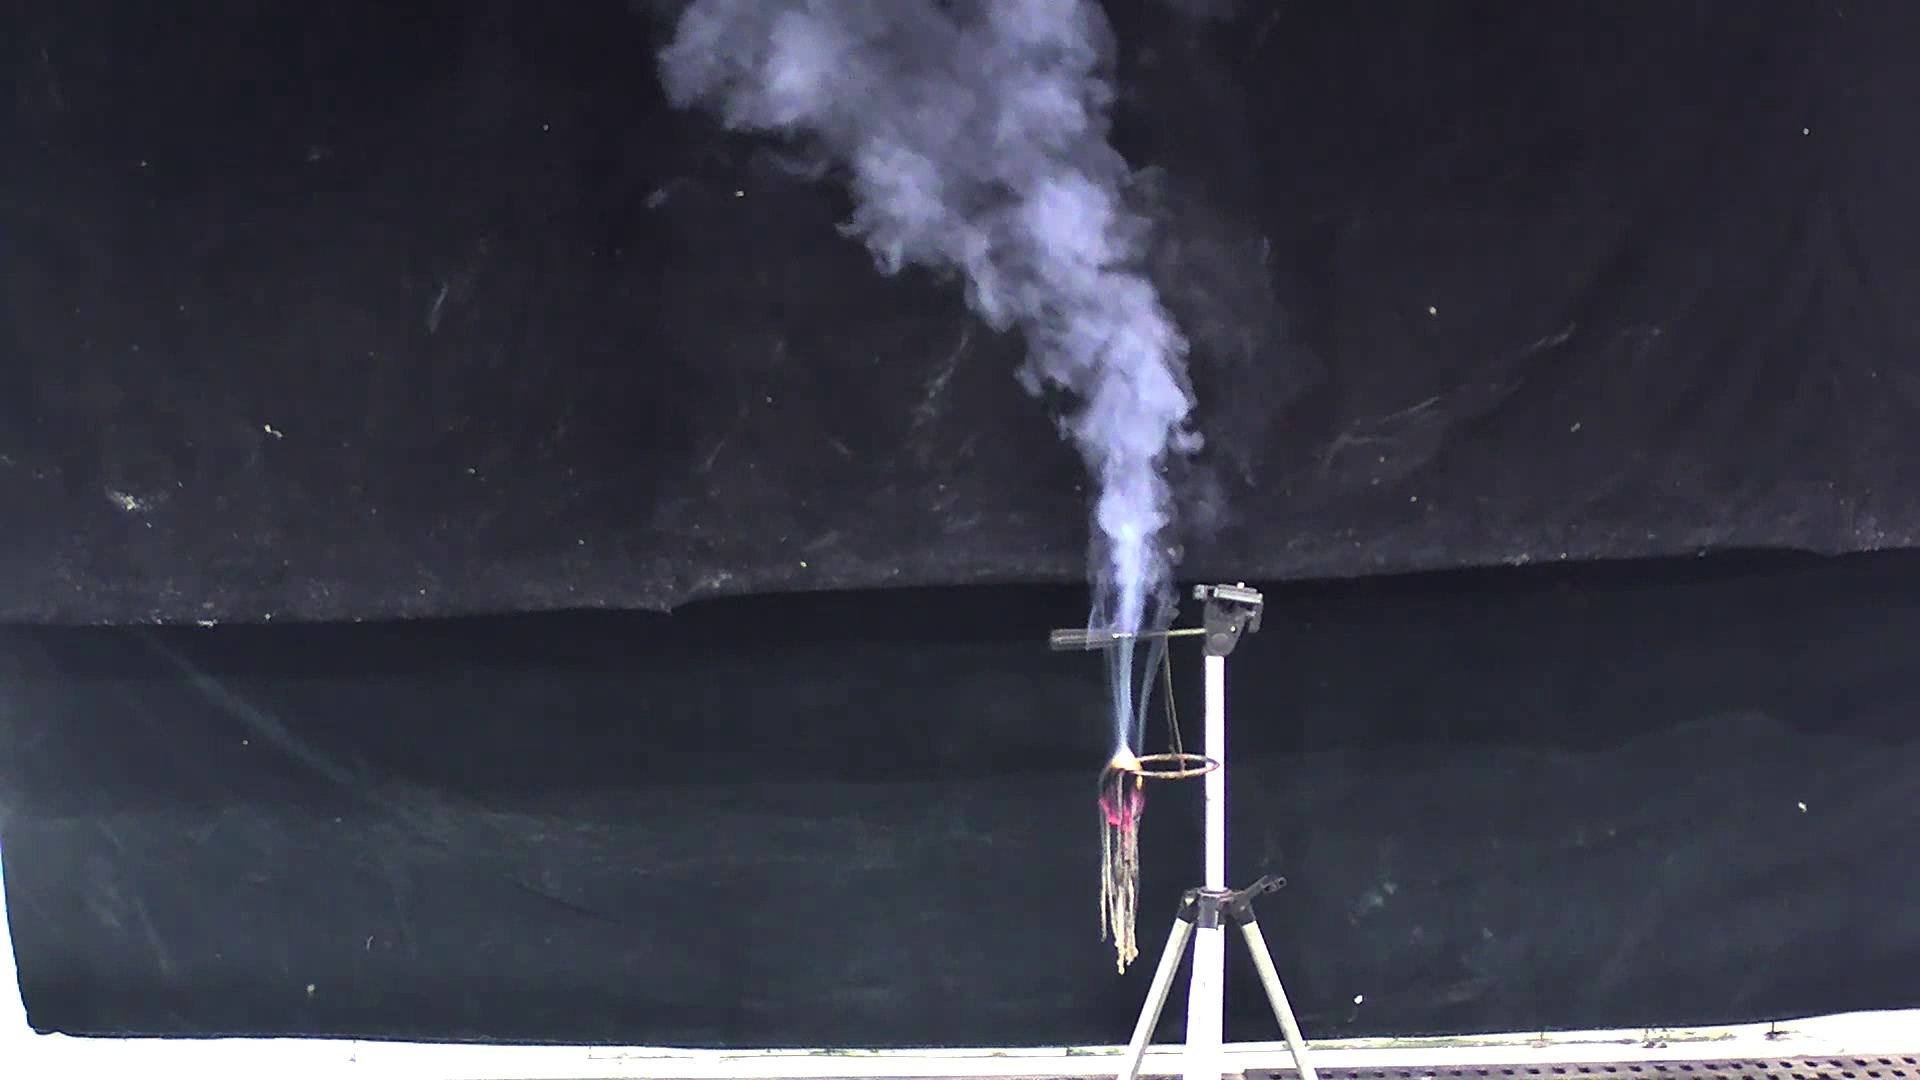smoke: (679, 16, 1185, 727)
